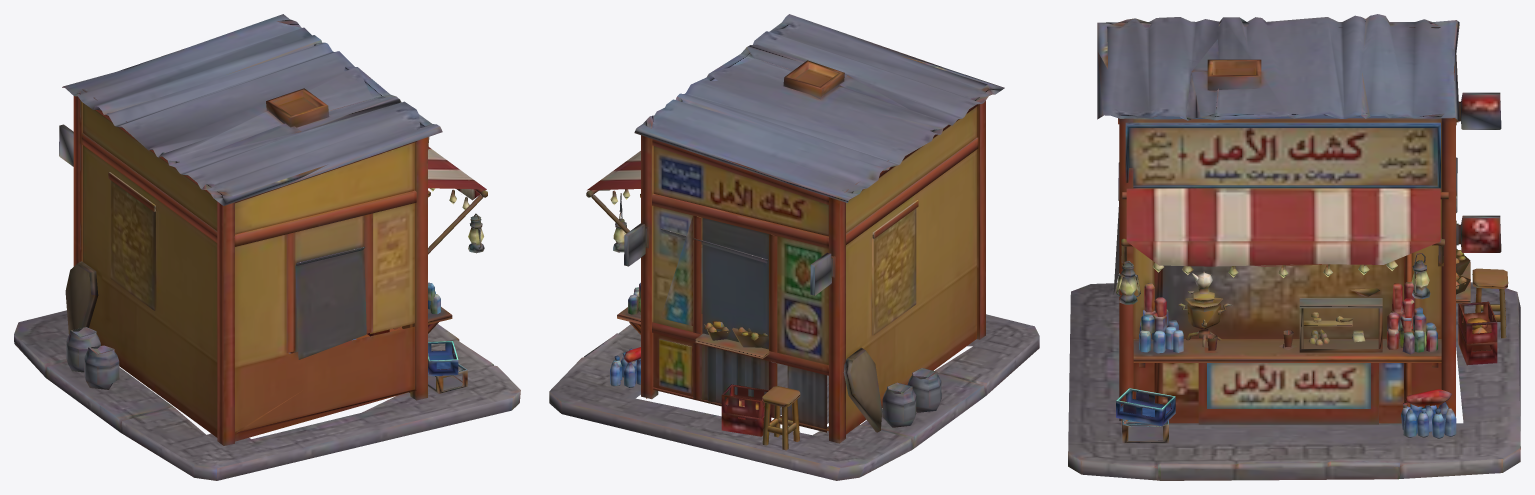
The model's file is p_kiosk.glb.
3 renders of one model, left to right at view 1: azimuth 30°, elevation 25°; view 2: azimuth 150°, elevation 25°; view 3: azimuth 270°, elevation 25°, orthographic. The views are drawn at different scales.
Parts seen in each view (by area): view 1: Kiosk_0_0; view 2: Kiosk_0_0; view 3: Kiosk_0_0.
Boxes of the visible parts, x1,y1,x2,y2 form: Kiosk_0_0: (14,14,520,480); Kiosk_0_0: (549,14,1039,480); Kiosk_0_0: (1068,14,1520,480).
Bounding box in the file's own units: 2.62 × 2.14 × 2.7.
Materials: 1 (1 with a texture image).
